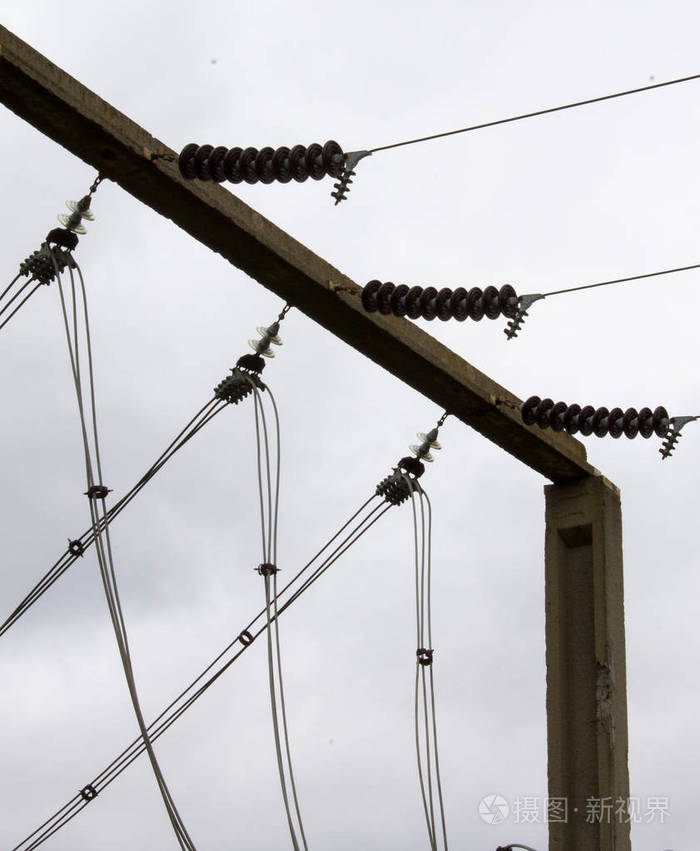insulator: (172, 139, 344, 183), (518, 393, 667, 440), (358, 279, 520, 321), (56, 197, 96, 235), (248, 322, 282, 360), (407, 431, 440, 462)
